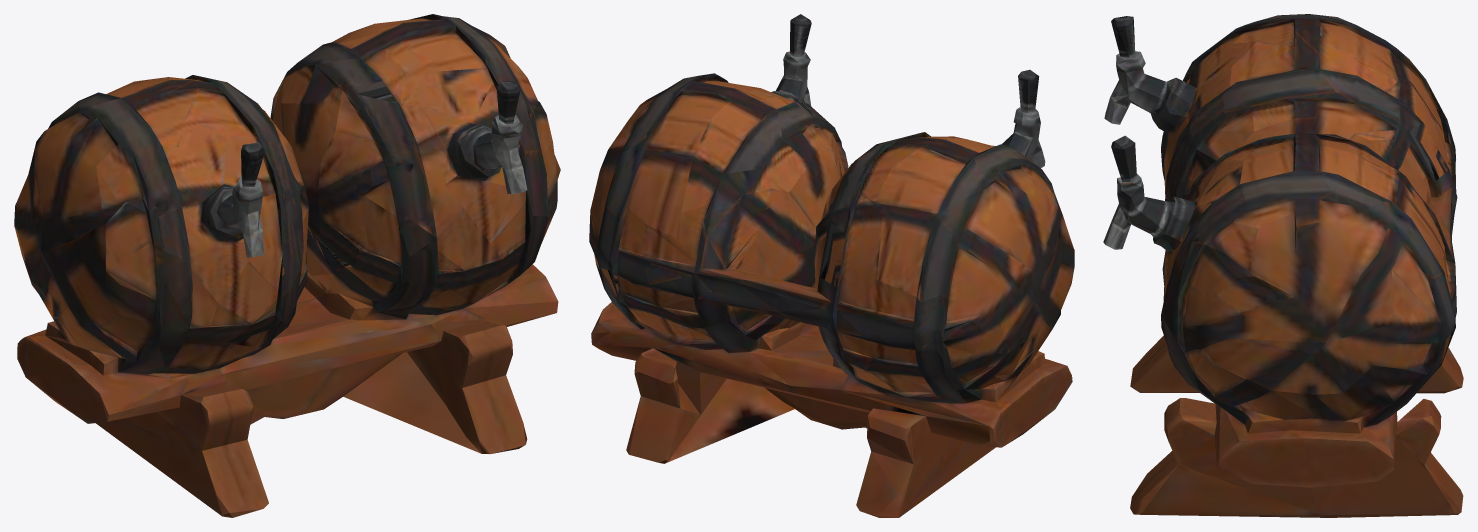
The model's file is keg-rack.low.glb.
3 views of the same model, side by side, from view 1: azimuth 30°, elevation 25°; view 2: azimuth 150°, elevation 25°; view 3: azimuth 270°, elevation 25° (orthographic). The views are drawn at different scales.
Visible parts, largest first — view 1: output_unwrapped; view 2: output_unwrapped; view 3: output_unwrapped.
Part boxes in pixels (x1,y1,x2,y2): output_unwrapped: [14, 14, 560, 517]; output_unwrapped: [589, 14, 1074, 517]; output_unwrapped: [1103, 14, 1463, 517].
Bounding box in the file's own units: 1.9 × 1.43 × 1.27.
1 material, 1 textured.
